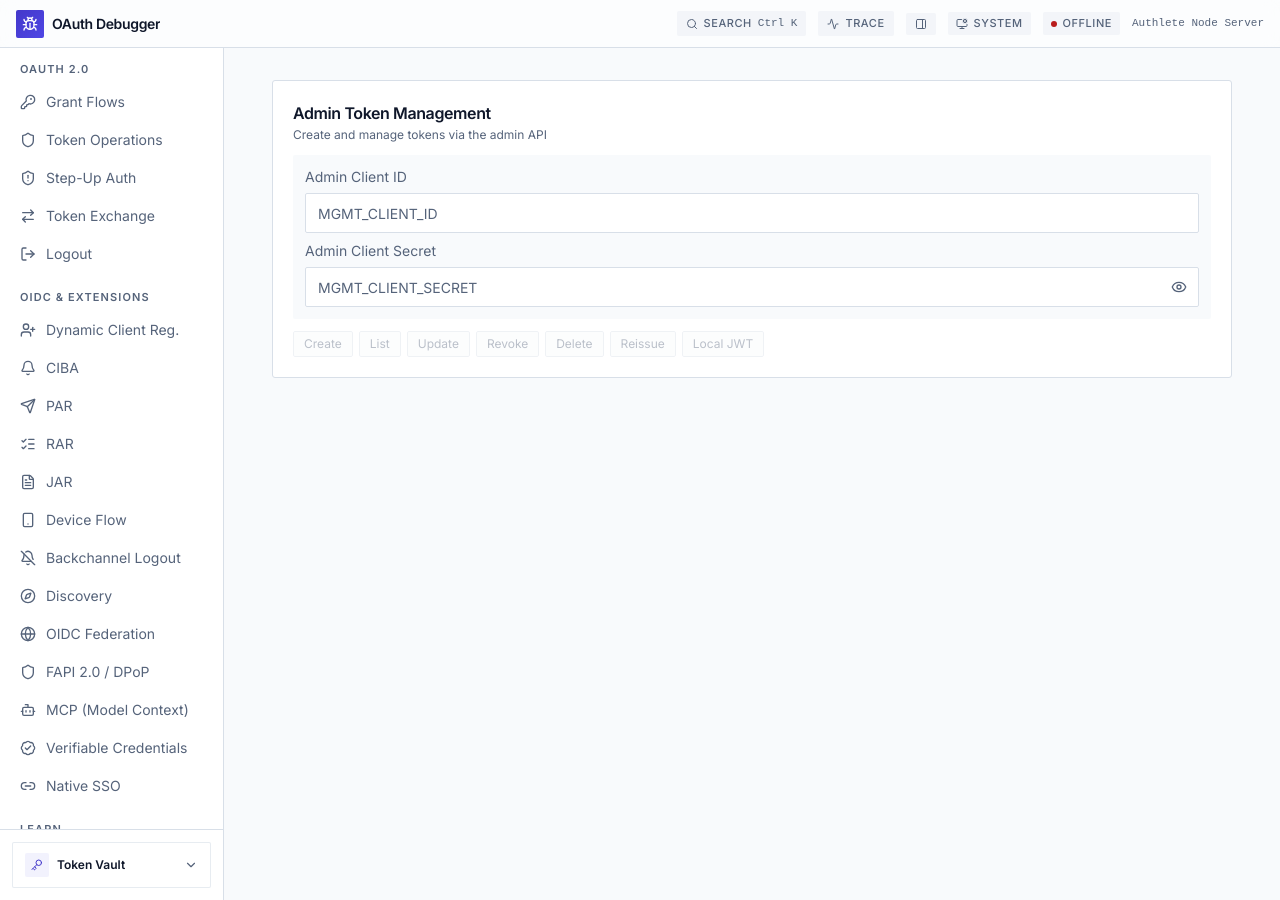
Test: shared management credentials (F-18) › carries the credential across sections, so it is entered once
Type "mgmt-client" into the field labelled "Admin Client ID" at (752,213), box [305, 193, 1199, 233]
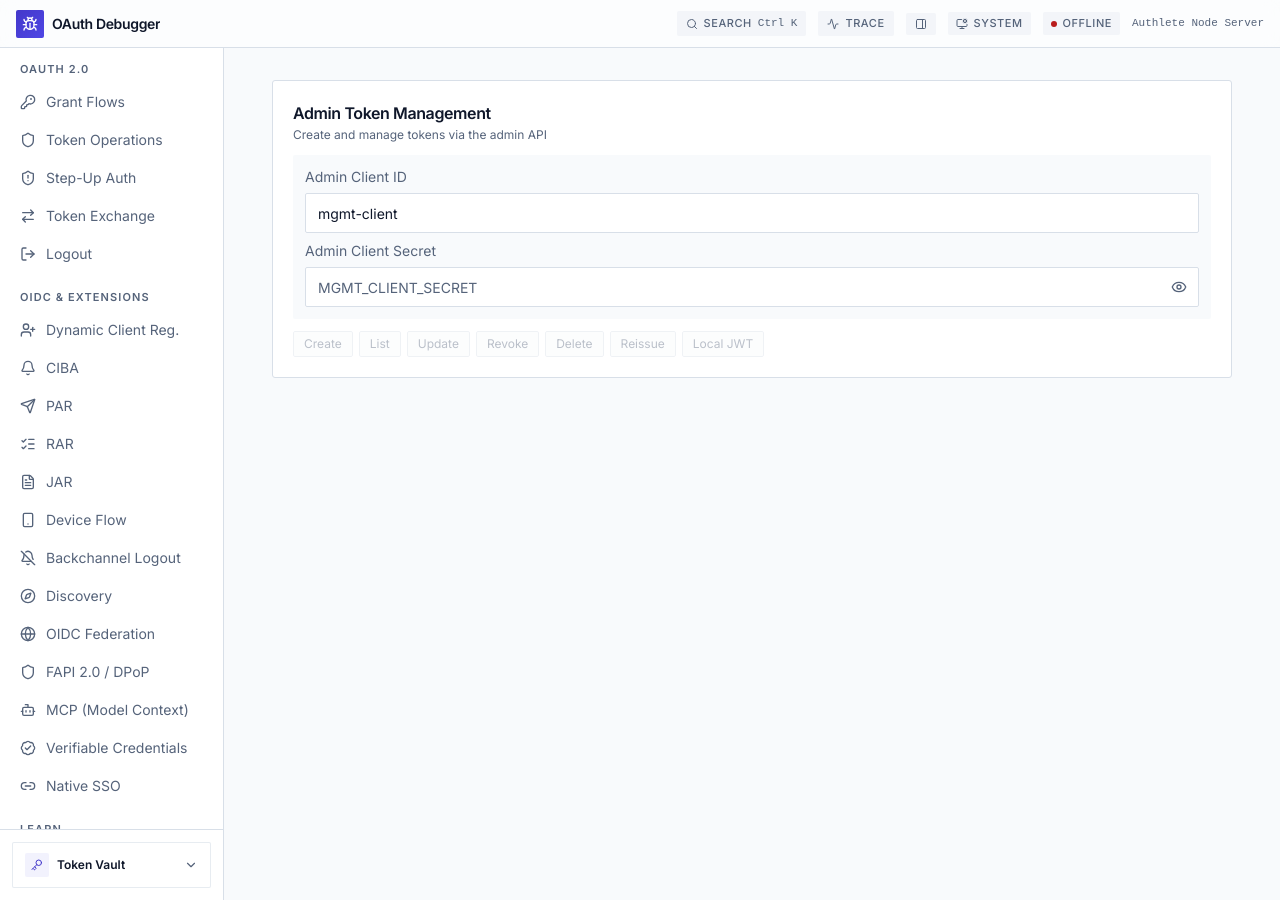
Type "s3cr3t" into the password field labelled "Admin Client Secret" at (752,287), box [305, 267, 1199, 307]
(page scrolled)
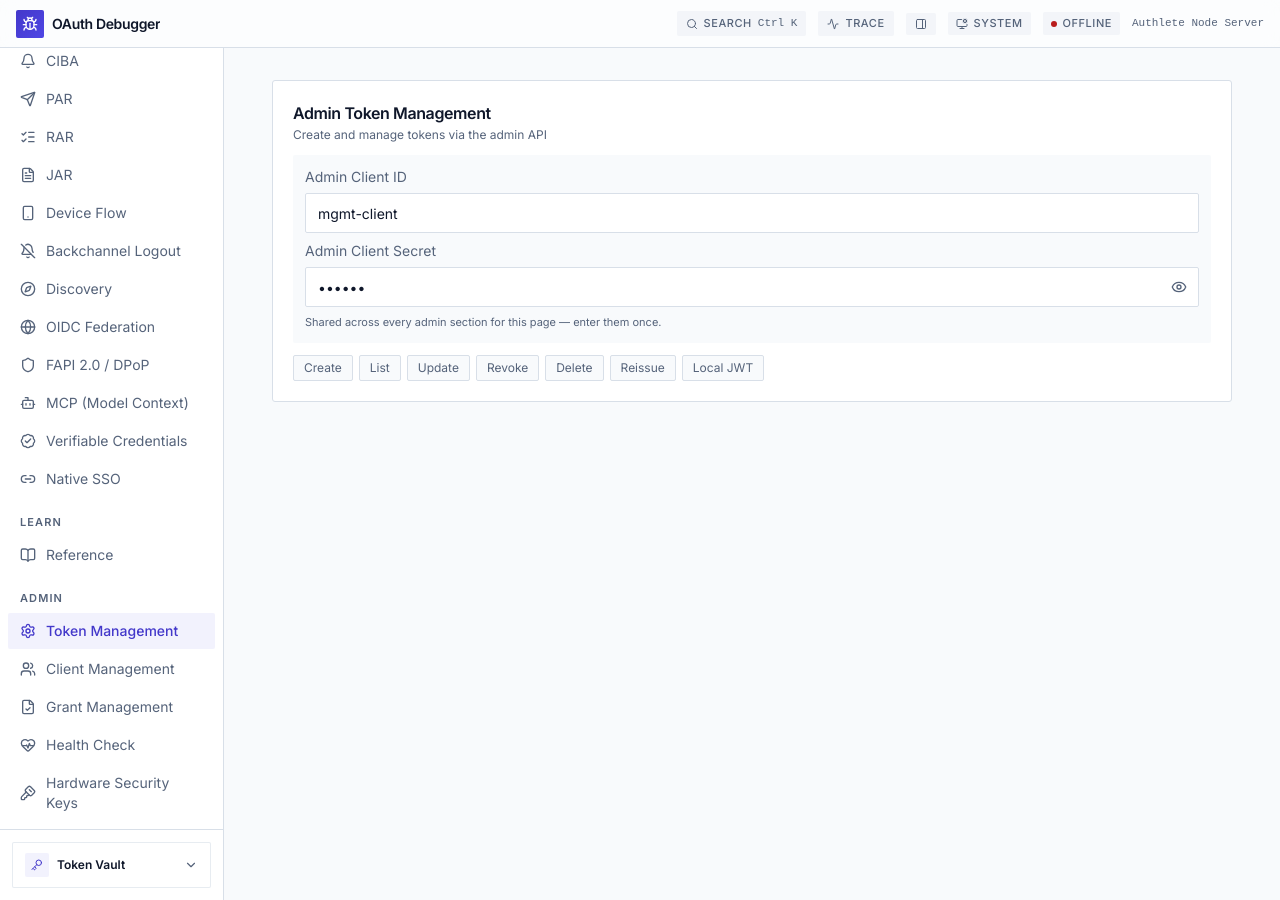
Click the link "Client Management" at (97,668), box [20, 660, 175, 677]
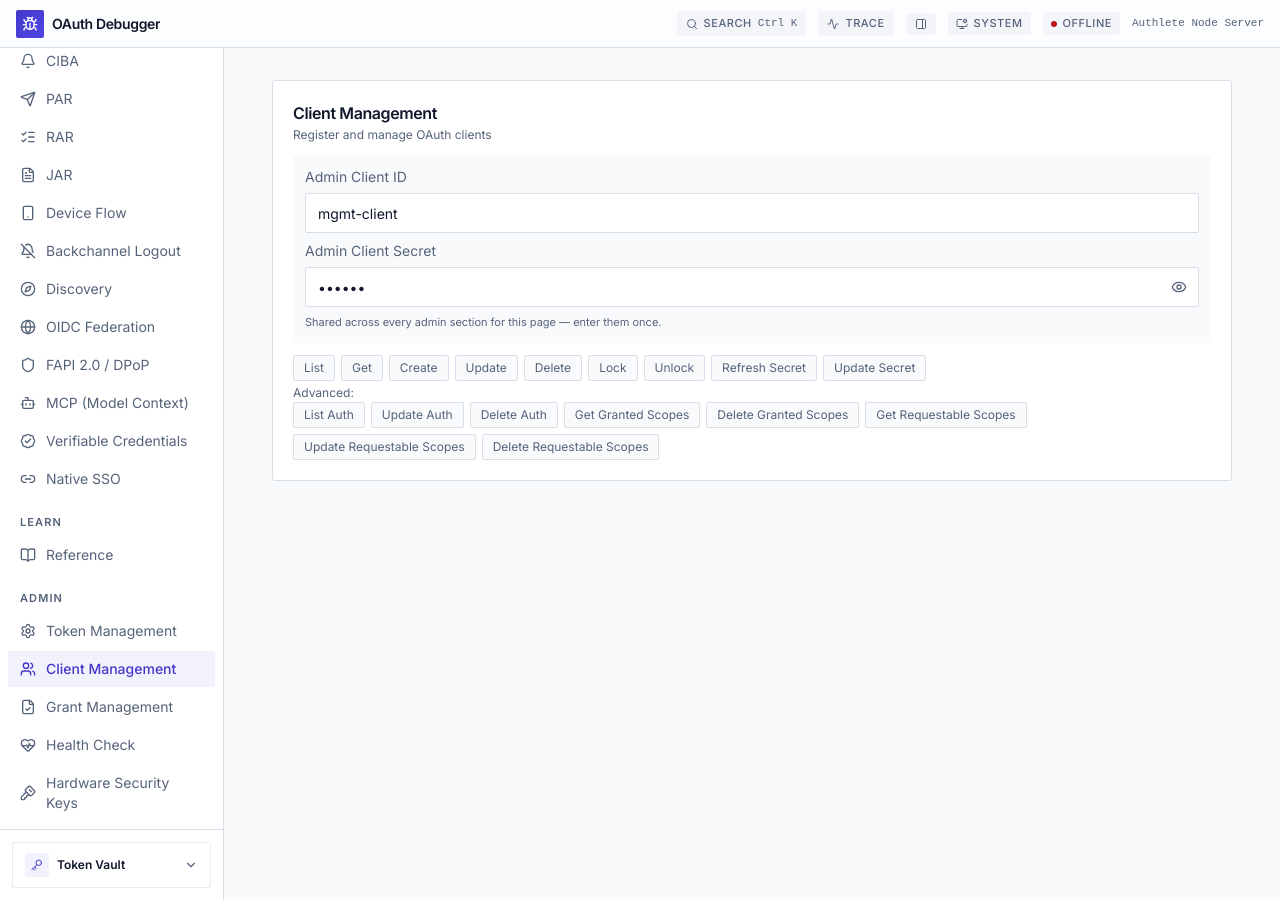
Check: the field labelled "Admin Client ID" holds "mgmt-client", box [305, 193, 1199, 233]
Check: the heading "Client Management" is shown, box [293, 103, 437, 123]
